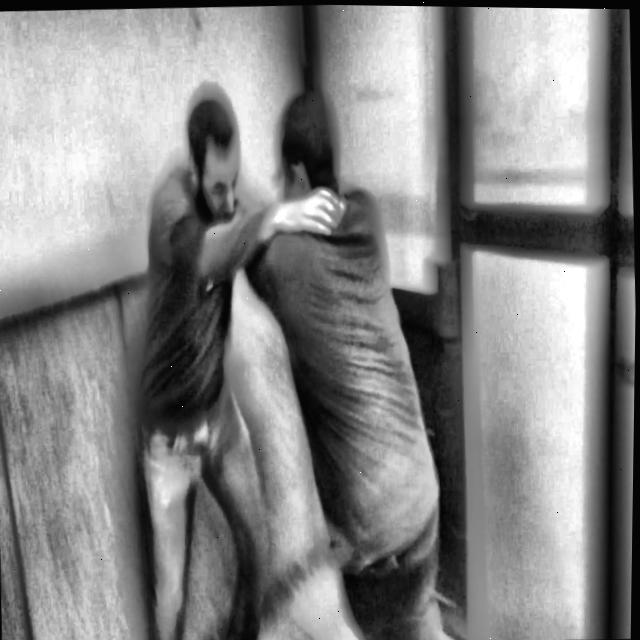robbery: (121, 78, 468, 640)
